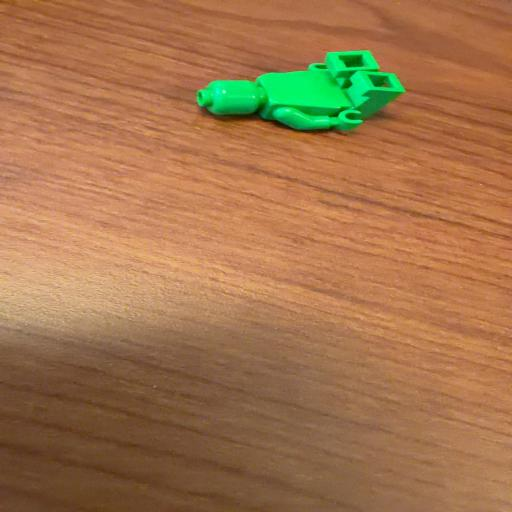UnoQ-minifig-detector: (196, 50, 405, 133)
